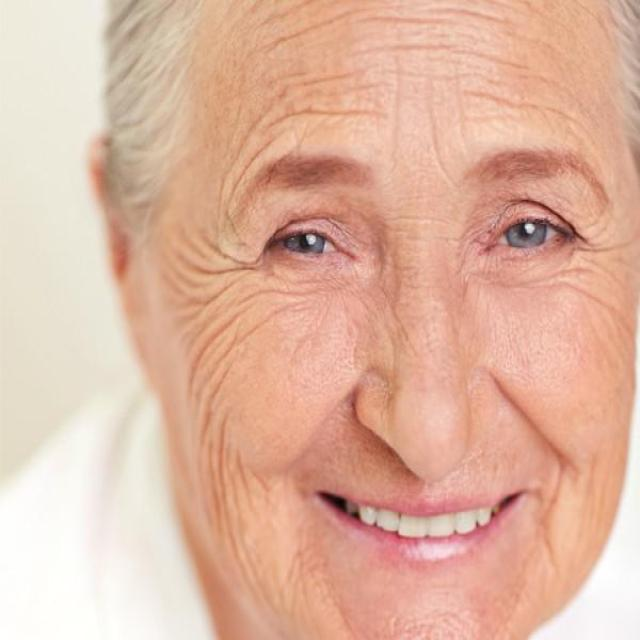Wrinkles: (218, 66, 365, 224), (186, 287, 314, 407), (247, 3, 515, 55), (194, 302, 292, 414), (218, 404, 263, 613), (159, 228, 261, 312), (466, 88, 601, 151), (195, 357, 235, 531), (225, 131, 280, 242), (351, 42, 531, 72), (537, 266, 620, 312), (536, 465, 563, 577), (264, 106, 392, 128), (237, 450, 255, 520), (580, 236, 634, 254)
